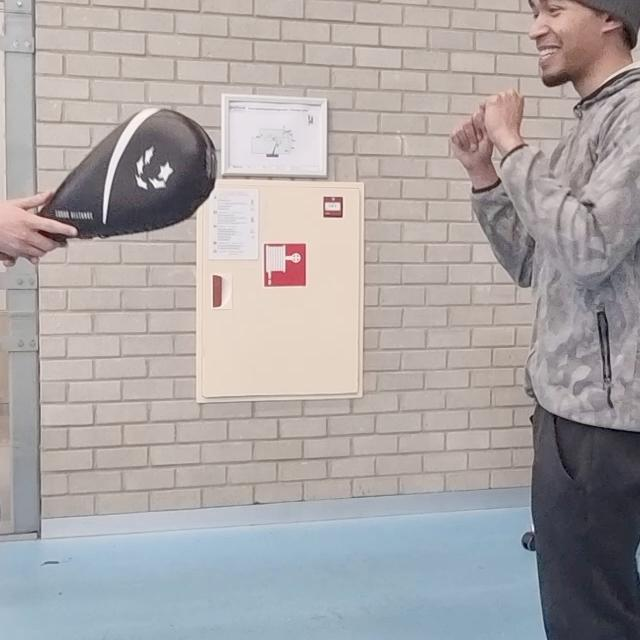paddle: (38, 109, 215, 237)
